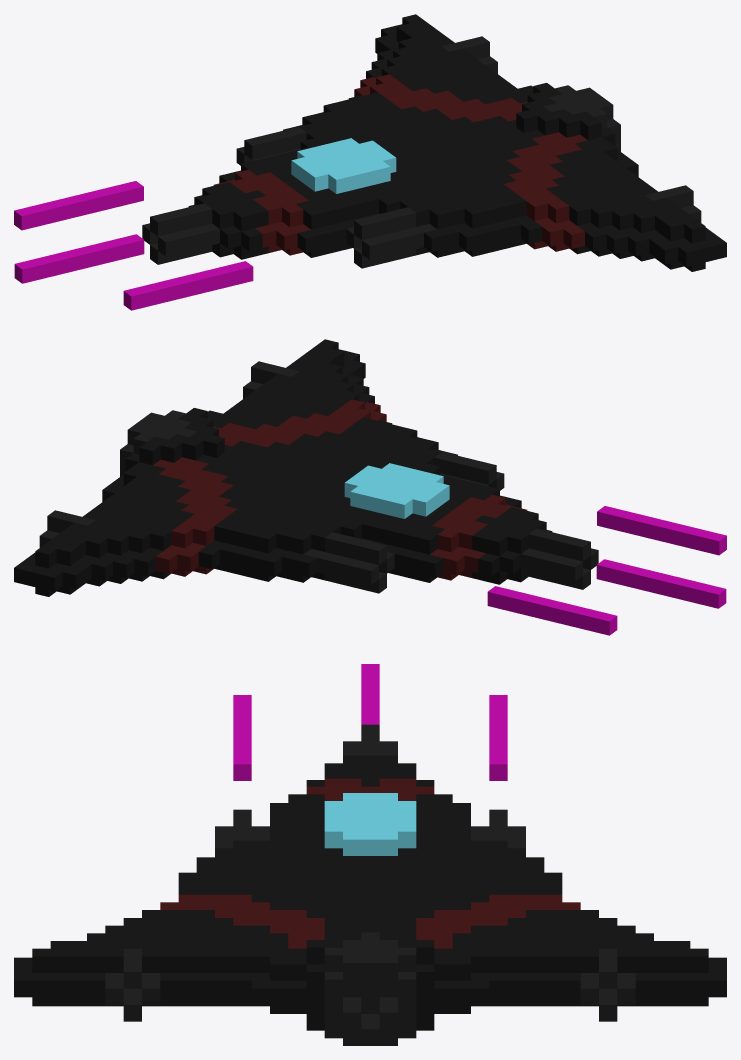
The model's file is ship_00.obj.
3 views of the same model, one above another, from view 1: azimuth 30°, elevation 25°; view 2: azimuth 150°, elevation 25°; view 3: azimuth 270°, elevation 25° (orthographic). The views are drawn at different scales.
Size of the model in its own units: 4.3 by 0.5 by 3.9.
Materials: 1 (1 with a texture image).
